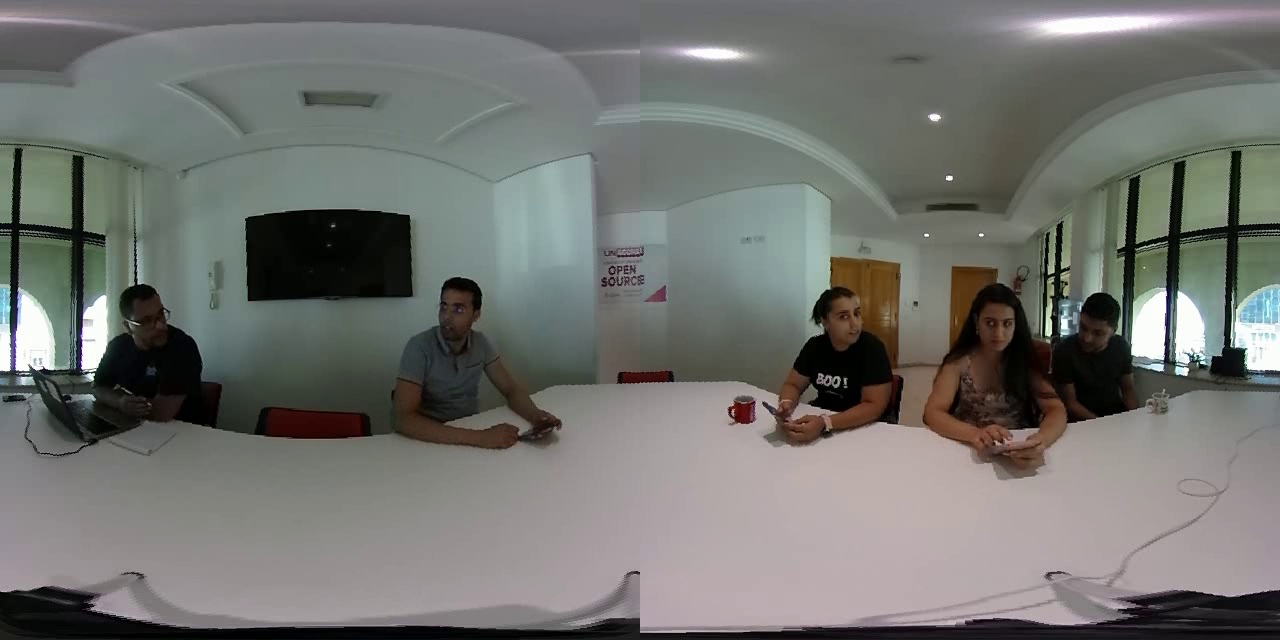person: (379, 268, 521, 449), (927, 276, 1051, 439), (785, 271, 898, 432), (91, 275, 204, 423), (1053, 282, 1155, 428)
